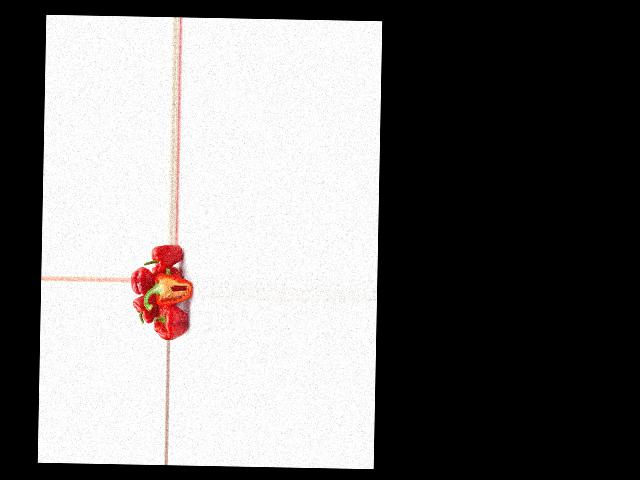bell_pepper: (132, 293, 157, 324)
